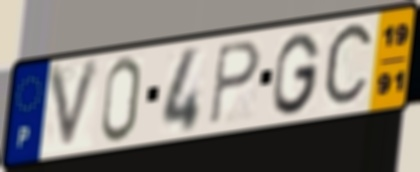0: (100, 53, 143, 145)
4: (160, 45, 203, 136)
C: (320, 17, 377, 115)
G: (270, 30, 323, 118)
P: (207, 38, 263, 129)
V: (45, 55, 105, 156)
